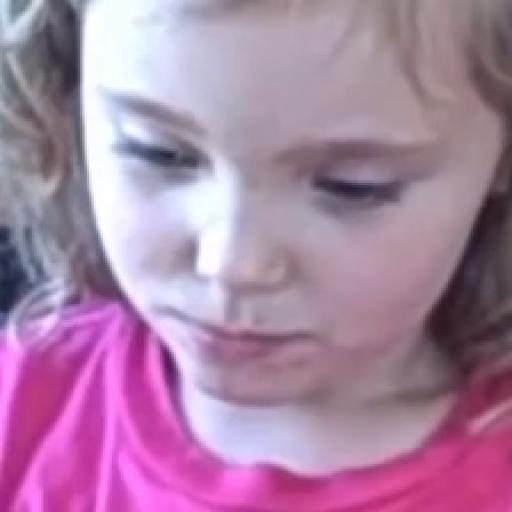Autism: (45, 25, 512, 500)
